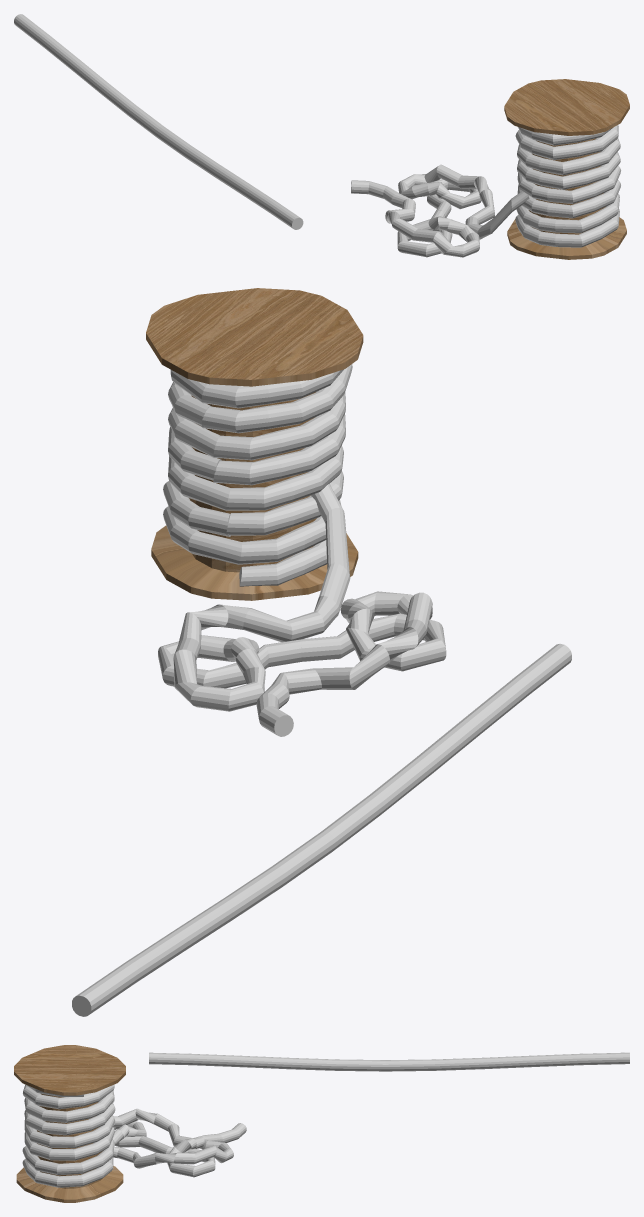
The model's file is Kärpänen_Naru.fbx.
3 views of the same model, one above another, from view 1: azimuth 30°, elevation 25°; view 2: azimuth 150°, elevation 25°; view 3: azimuth 270°, elevation 25° (orthographic). The views are drawn at different scales.
Parts seen in each view (by area): view 1: Cube.094, Cube.090, Cube.088; view 2: Cube.094, Cube.090, Cube.088; view 3: Cube.094, Cube.088, Cube.090.
Part boxes in pixels (x1=…): Cube.094: x1=504, y1=79, x2=629, y2=259; Cube.090: x1=351, y1=164, x2=529, y2=257; Cube.088: x1=14, y1=14, x2=303, y2=229; Cube.094: x1=146, y1=288, x2=363, y2=600; Cube.090: x1=158, y1=483, x2=446, y2=736; Cube.088: x1=72, y1=643, x2=571, y2=1016; Cube.094: x1=14, y1=1045, x2=125, y2=1202; Cube.088: x1=149, y1=1052, x2=629, y2=1071; Cube.090: x1=112, y1=1108, x2=246, y2=1177.
Size of the model in its own units: 1166 by 534 by 2521.
2 materials, 1 textured.
